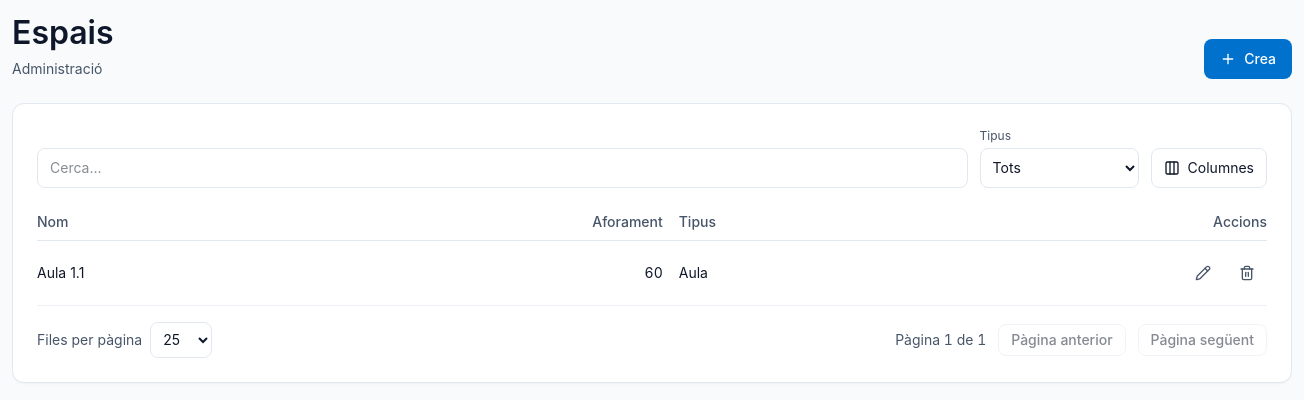
putting a column away › draws a column the person had hidden before, when they put it back
Expected: the text "Edifici A" is not shown
Click the button "Columnes": [1209, 168] box [1151, 148, 1267, 188]
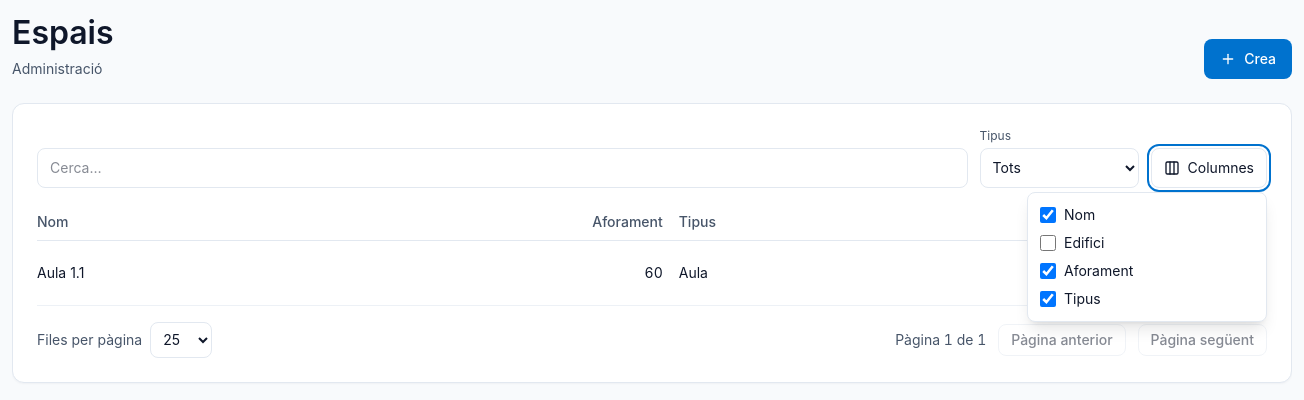
Click the checkbox labelled "Edifici": [1048, 243] box [1040, 235, 1056, 251]
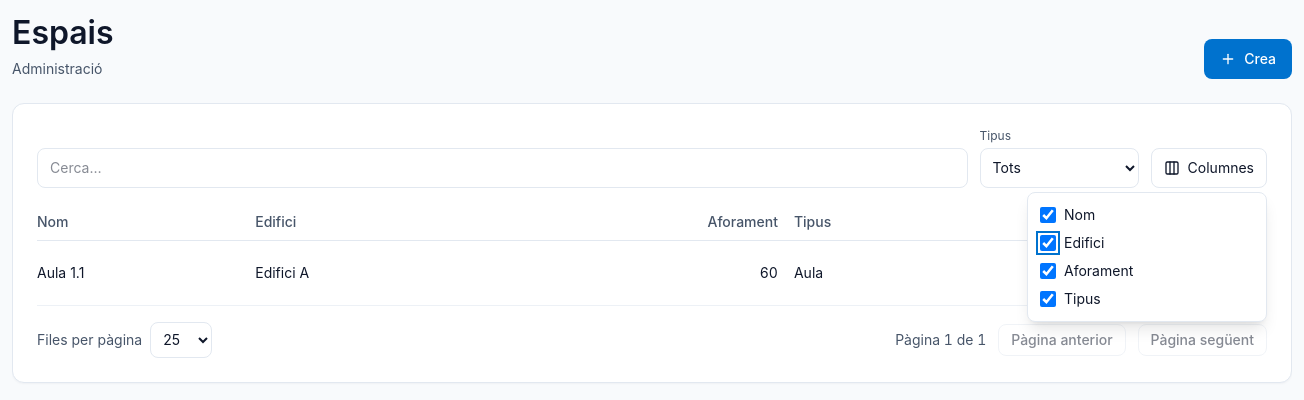
Result: the text "Edifici A" is shown at [255, 241, 496, 305]
